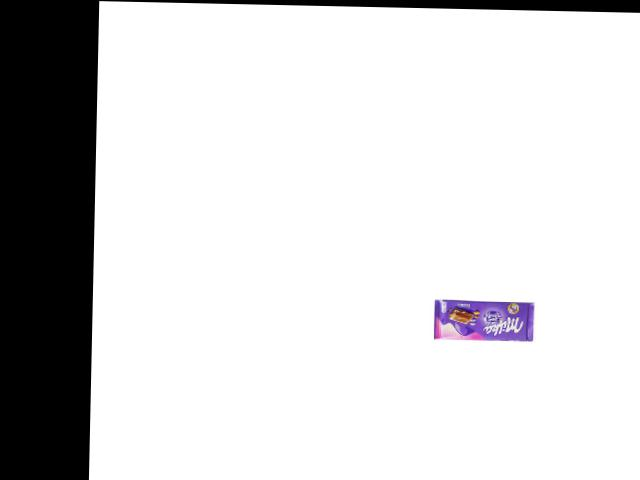chocolate: (434, 298, 534, 342)
